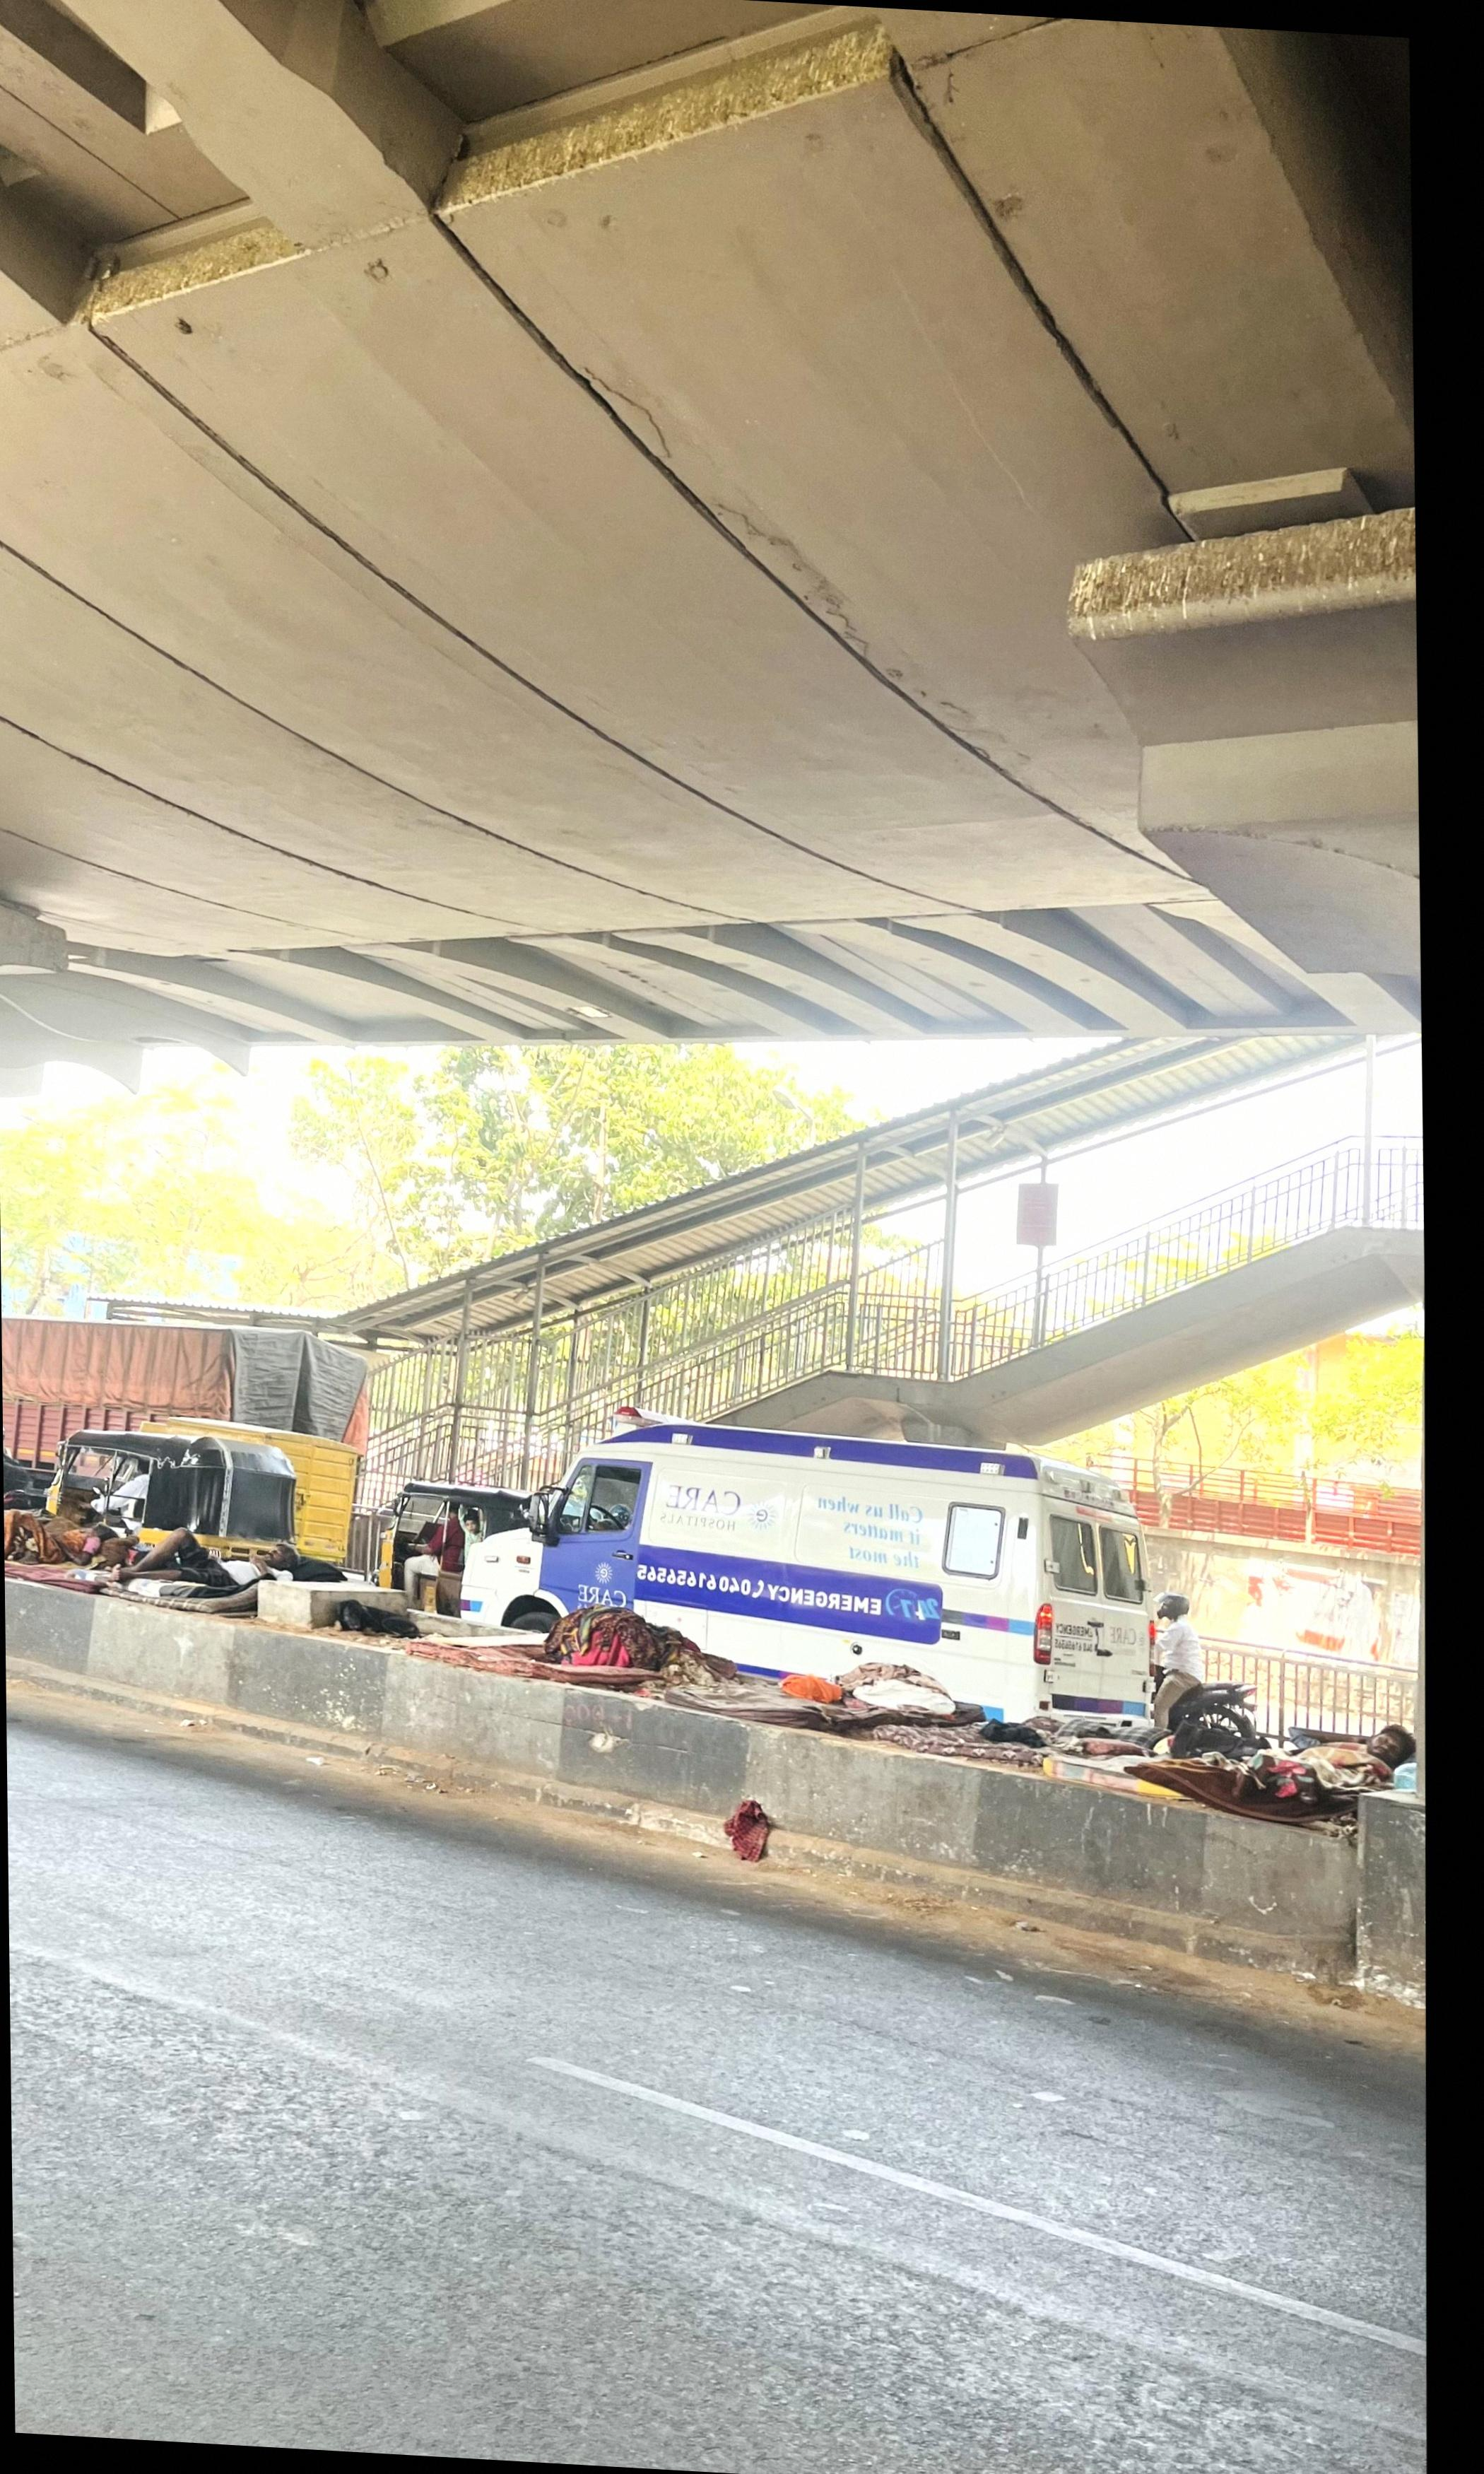ambulance: (541, 1431, 1157, 1780)
